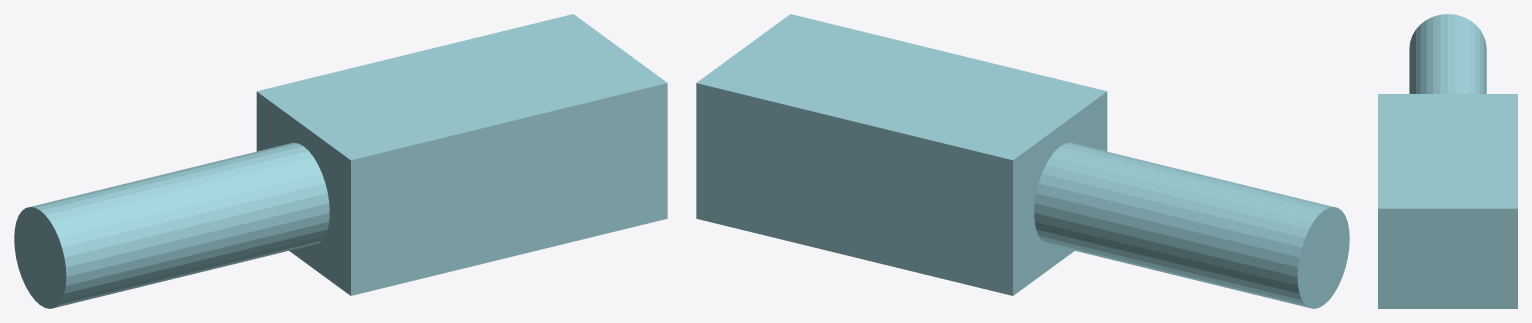
Rendered from cylinder_brush_v9000.obj.
3 renders of one model, left to right at view 1: azimuth 30°, elevation 25°; view 2: azimuth 150°, elevation 25°; view 3: azimuth 270°, elevation 25°, orthographic. The views are drawn at different scales.
Size of the model in its own units: 0.136 by 0.0304 by 0.0383.
1 material, 1 textured.
